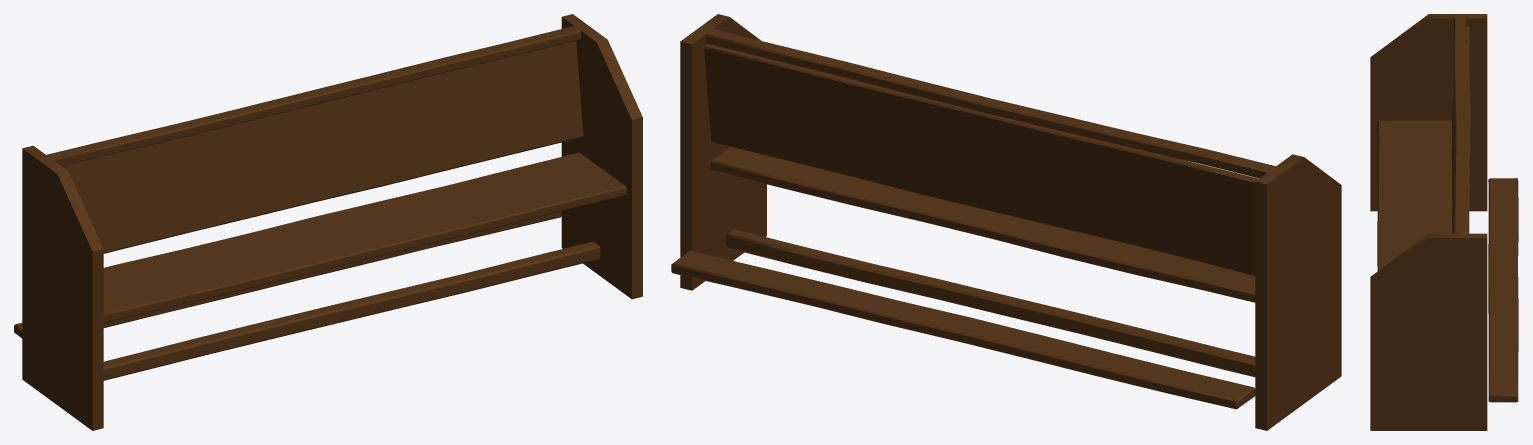
The model's file is kirchenbank.glb.
3 views of the same model, side by side, from view 1: azimuth 30°, elevation 25°; view 2: azimuth 150°, elevation 25°; view 3: azimuth 270°, elevation 25° (orthographic). The views are drawn at different scales.
Parts seen in each view (by area): view 1: kirchenbank; view 2: kirchenbank; view 3: kirchenbank.
Boxes of the visible parts, bbox=[...] form: kirchenbank: bbox=[14, 14, 642, 430]; kirchenbank: bbox=[671, 14, 1341, 430]; kirchenbank: bbox=[1370, 14, 1518, 430].
Bounding box in the file's own units: 2.49 × 1 × 0.6977.
